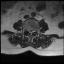CCS_normal: (30, 29, 31, 37)
LFS_normal: (33, 27, 35, 33)
LLS_normal: (31, 29, 33, 35)
RFS_normal: (26, 27, 28, 33)
RLS_stenosis: (28, 28, 30, 34)
